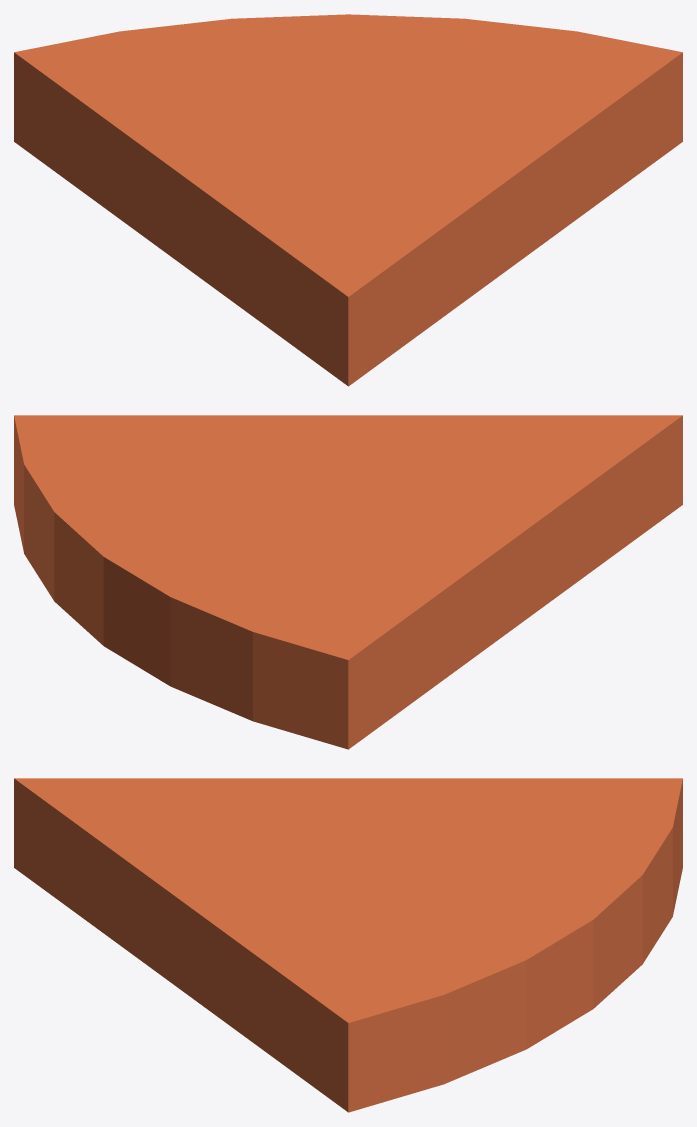
File: slice.fbx
The picture shows the model from 3 angles, top to bottom: view 1: azimuth 30°, elevation 25°; view 2: azimuth 150°, elevation 25°; view 3: azimuth 270°, elevation 25°; orthographic projection.
Parts seen in each view (by area): view 1: Cylinder; view 2: Cylinder; view 3: Cylinder.
Boxes of the visible parts, <box> form: Cylinder: <box>14,14,682,386</box>; Cylinder: <box>14,415,682,749</box>; Cylinder: <box>14,778,682,1112</box>.
Bounding box in the file's own units: 86.92 × 14.81 × 100.
